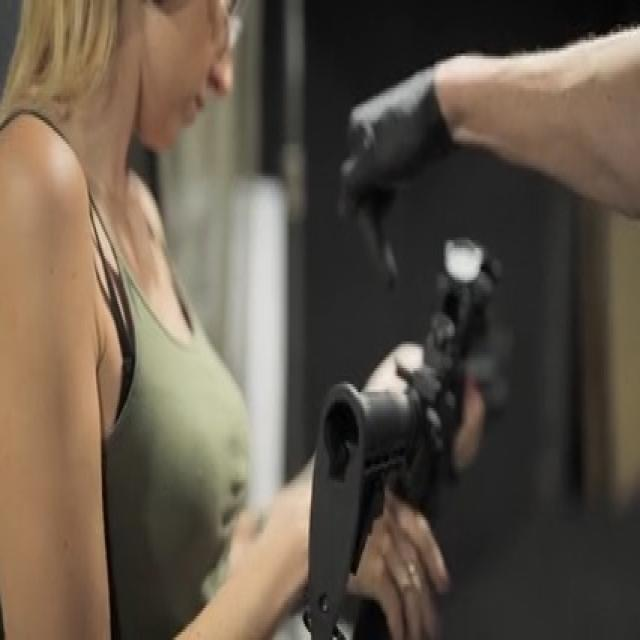Gun_Holder: (279, 198, 603, 640)
Person: (0, 0, 444, 640)
